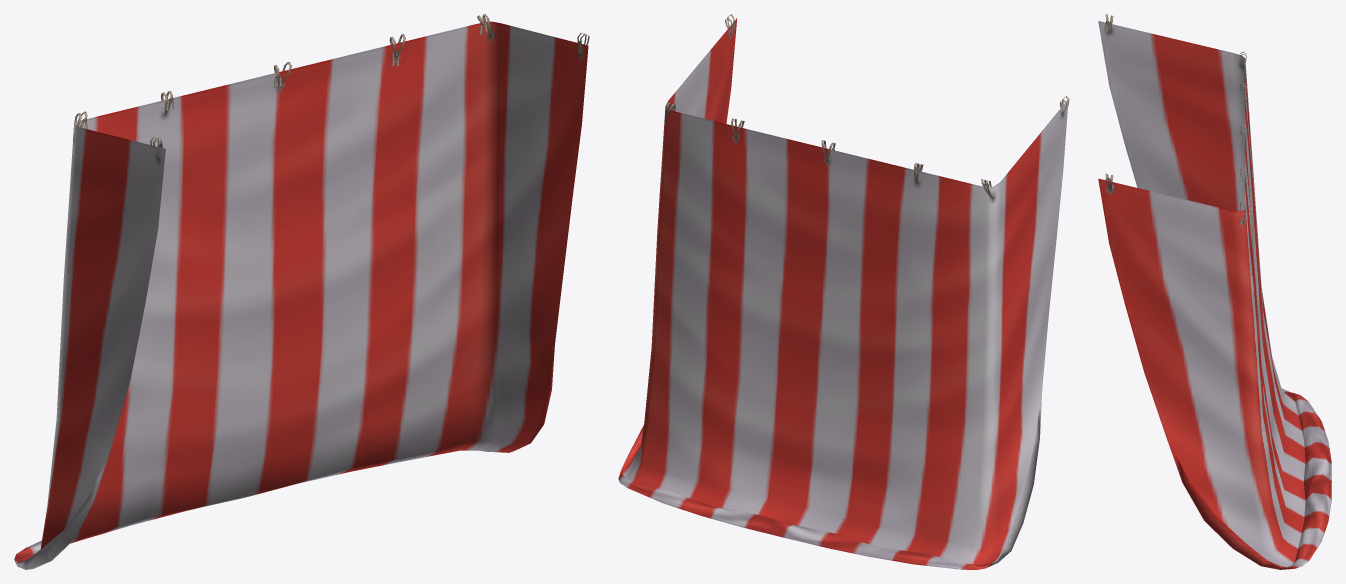
File: jsf_BackSide_s01_c01_t01.fbx
3 views of the same model, side by side, from view 1: azimuth 30°, elevation 25°; view 2: azimuth 150°, elevation 25°; view 3: azimuth 270°, elevation 25° (orthographic). The views are drawn at different scales.
Visible parts, largest first — view 1: jsf_BackSide_s01_c01_t01; view 2: jsf_BackSide_s01_c01_t01; view 3: jsf_BackSide_s01_c01_t01.
Boxes of the visible parts, box(x1,y1,x2,y2) form: jsf_BackSide_s01_c01_t01: box(14, 14, 589, 569); jsf_BackSide_s01_c01_t01: box(618, 14, 1069, 569); jsf_BackSide_s01_c01_t01: box(1098, 14, 1331, 569).
Size of the model in its own units: 207 by 205 by 112.
